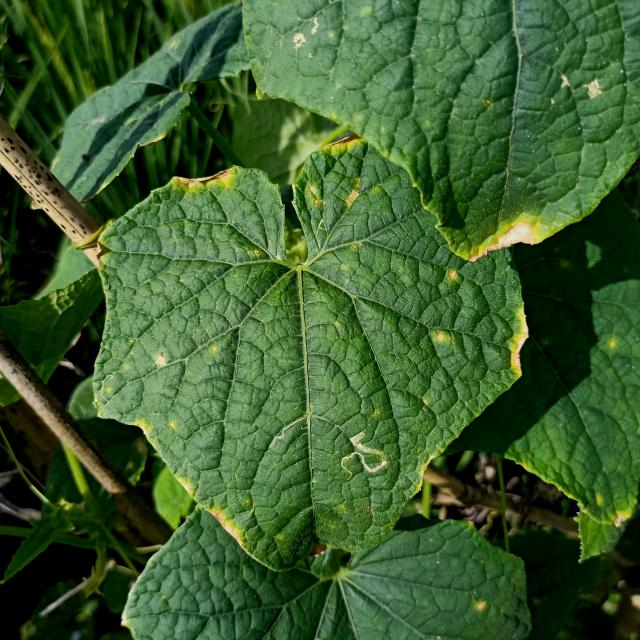disease_cucumber: (301, 133, 367, 218), (122, 408, 178, 446), (431, 327, 454, 349), (441, 267, 459, 288), (150, 349, 168, 370)
